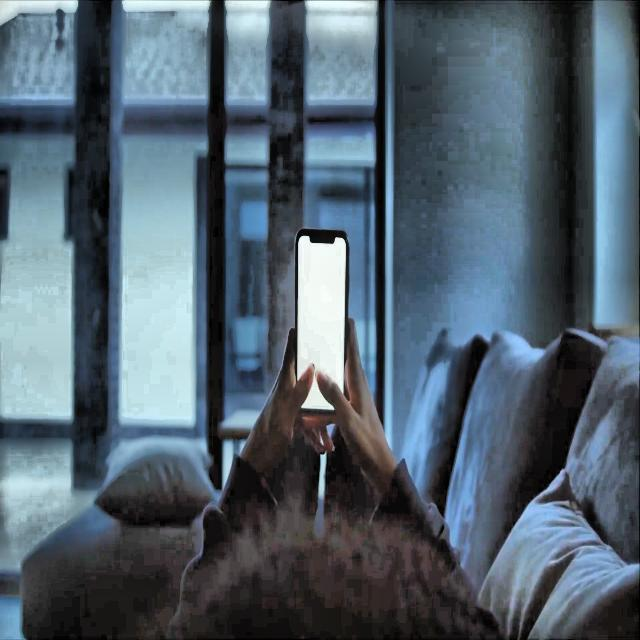Phone: (293, 228, 348, 420)
